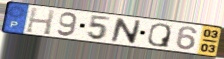5: (86, 14, 112, 41)
6: (174, 26, 199, 51)
9: (56, 11, 78, 37)
H: (24, 6, 57, 36)
N: (109, 17, 143, 46)
Q: (146, 23, 173, 49)
